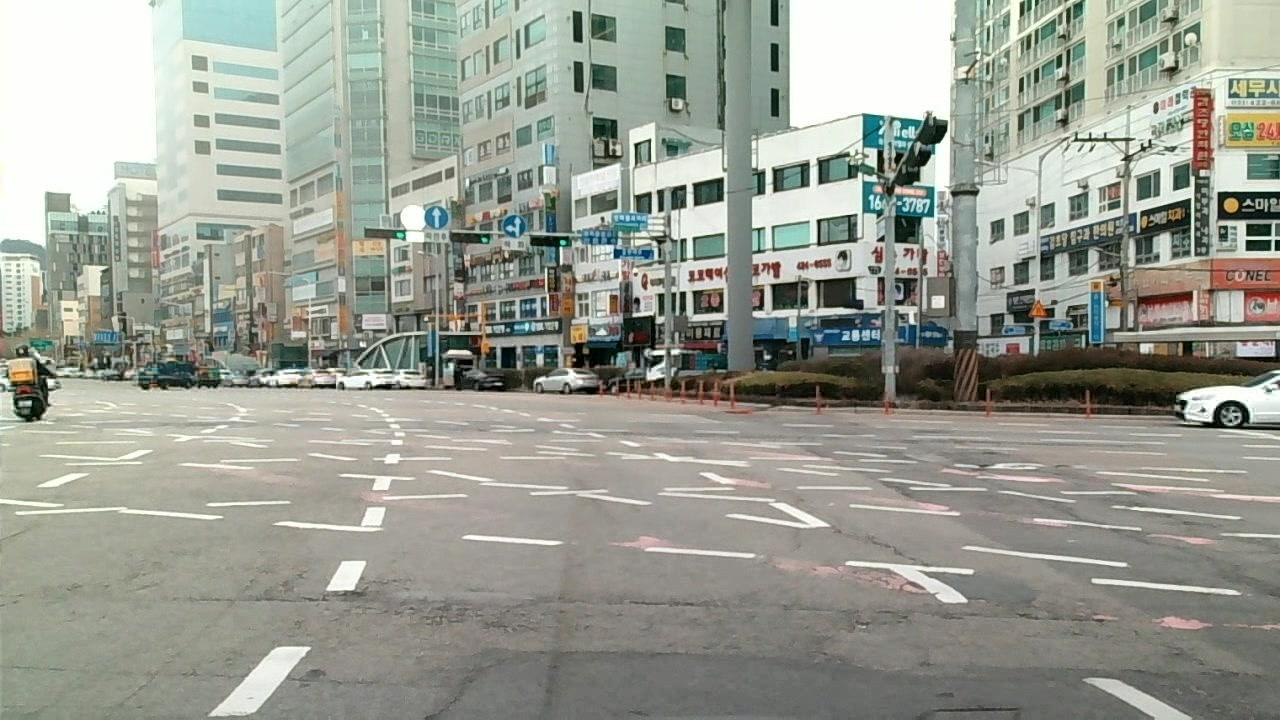banner: (481, 596, 1146, 675), (171, 582, 459, 609), (149, 667, 390, 692), (812, 518, 928, 565), (1054, 495, 1162, 540), (423, 678, 475, 717), (1168, 506, 1223, 535), (872, 471, 911, 497)
